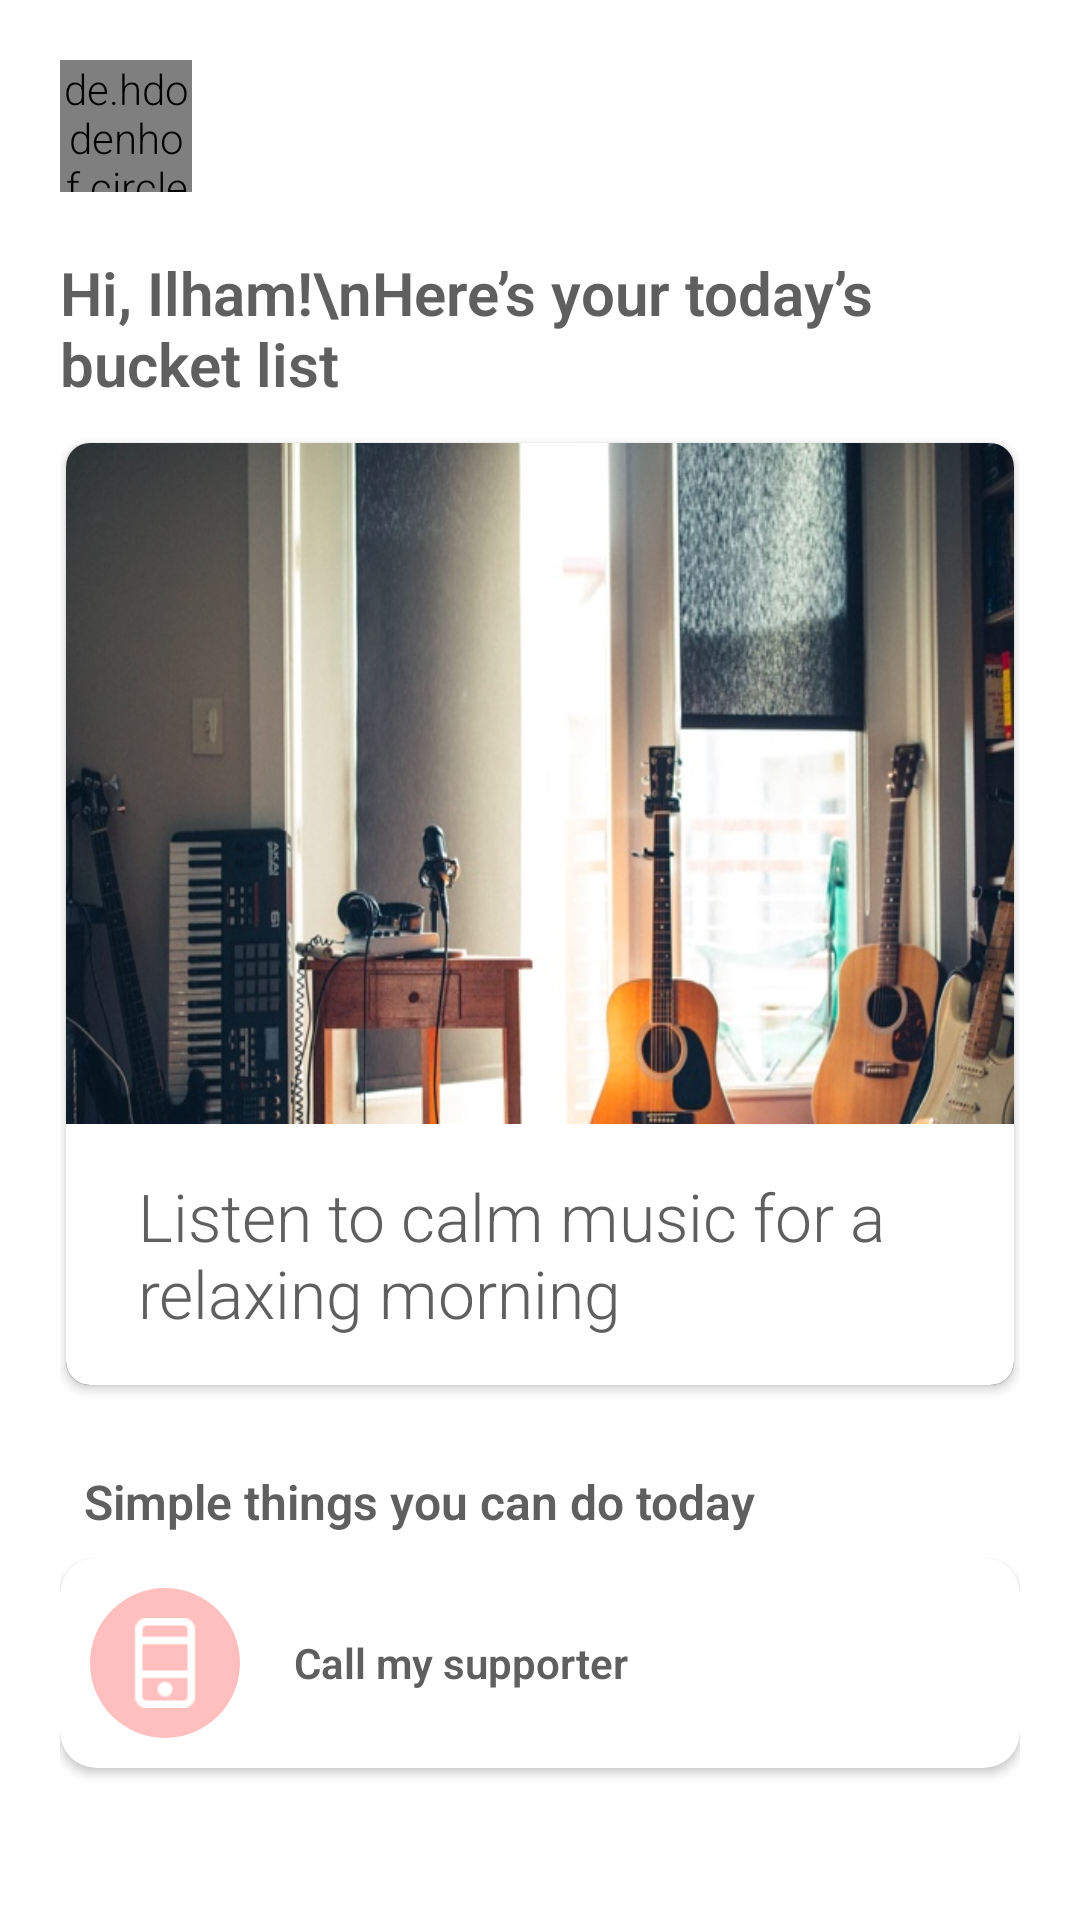

Point at icon controls on the screen. Image size 1080*1920, points as point (x, y).
phone: point (165, 1663)
